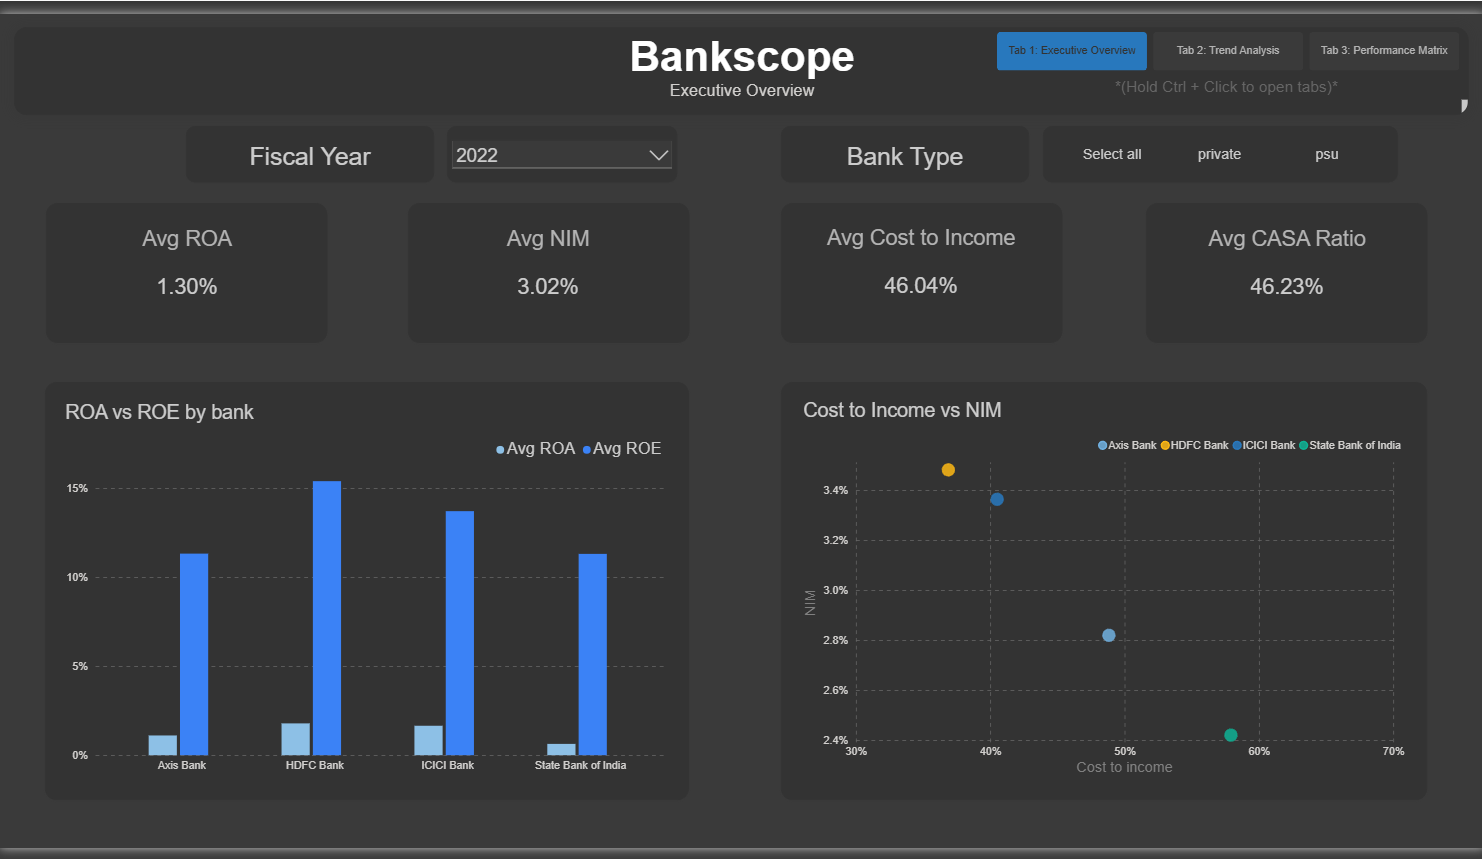

Layout of this report page (visuals, bound fields, positions):
{"tool":"powerbi","page":{"name":"Tab 1: Executive Overview","canvas":[1920,1080],"ordinal":0},"visuals":[{"type":"textbox","title":"Bankscope","box":[18.1,16.8,1882.4,114],"z":0},{"type":"textbox","box":[59,244.2,363.6,181.1],"z":1000},{"type":"textbox","box":[527.3,244.2,363.6,181.1],"z":2000},{"type":"textbox","box":[1010.3,244.2,363.6,181.1],"z":3000},{"type":"textbox","box":[1482.6,244.2,363.6,181.1],"z":4000},{"type":"textbox","box":[57.7,476.3,833.2,540.7],"z":5000},{"type":"textbox","box":[1010.3,476.3,835.9,540.7],"z":6000},{"type":"cardVisual","title":"Avg ROA","fields":{"Data":["public vw_powerbi_ratios.AVG ROA"]},"box":[73.3,254.9,336.8,159.7],"z":7000},{"type":"textbox","box":[241.1,144.4,320.8,73],"z":8000},{"type":"slicer","fields":{"Values":["public vw_powerbi_ratios.fiscal_year"]},"box":[578.9,144.4,298,73],"z":9000},{"type":"cardVisual","title":"Avg NIM","fields":{"Data":["public vw_powerbi_ratios.Avg NIM"]},"box":[541.2,255.4,336.8,159.7],"z":10000},{"type":"cardVisual","title":"Avg Cost to Income","fields":{"Data":["public vw_powerbi_ratios.AVG Cost to Income"]},"box":[1023.1,253.9,336.8,159.7],"z":11000},{"type":"cardVisual","title":"Avg CASA Ratio","fields":{"Data":["public vw_powerbi_ratios.AVG CASA Ratio"]},"box":[1496.9,254.9,336.8,159.7],"z":12000},{"type":"clusteredColumnChart","title":"ROA vs ROE by bank","fields":{"Category":["public vw_powerbi_ratios.bank_name"],"Y":["public vw_powerbi_ratios.Avg ROA","public vw_powerbi_ratios.AVG ROE"]},"box":[68.4,486.5,810.3,513.8],"z":13000},{"type":"scatterChart","title":"Cost to Income vs NIM","fields":{"Category":["public vw_powerbi_ratios.bank_name"],"Series":["public vw_powerbi_ratios.bank_name"],"X":["public vw_powerbi_ratios.AVG Cost to Income"],"Y":["public vw_powerbi_ratios.Avg NIM"]},"box":[1023.1,486.5,810.3,513.8],"z":14000},{"type":"textbox","box":[1010.9,144.4,320.8,73],"z":15000},{"type":"advancedSlicerVisual","fields":{"Values":["public vw_powerbi_ratios.bank_type"]},"box":[1349.9,144.4,459.1,73],"z":16000},{"type":"pageNavigator","box":[1289.9,23.3,600,50],"z":17000},{"type":"textbox","title":"*(Hold Ctrl + Click to open tabs)*","box":[1442.6,82.8,295,28.5],"z":18000}]}

Visuals, with their boxes in screenshot pixels (x1, y1, x2, y2), scaled from the page's 1920x1080 canvas onto the 1482x859 screenshot:
"Bankscope" textbox: l=14, t=13, r=1467, b=104
textbox: l=46, t=194, r=326, b=338
textbox: l=407, t=194, r=688, b=338
textbox: l=780, t=194, r=1060, b=338
textbox: l=1144, t=194, r=1425, b=338
textbox: l=45, t=379, r=688, b=809
textbox: l=780, t=379, r=1425, b=809
"Avg ROA" cardVisual: l=57, t=203, r=317, b=330
textbox: l=186, t=115, r=434, b=173
slicer - public vw_powerbi_ratios.fiscal_year: l=447, t=115, r=677, b=173
"Avg NIM" cardVisual: l=418, t=203, r=678, b=330
"Avg Cost to Income" cardVisual: l=790, t=202, r=1050, b=329
"Avg CASA Ratio" cardVisual: l=1155, t=203, r=1415, b=330
"ROA vs ROE by bank" clusteredColumnChart: l=53, t=387, r=678, b=796
"Cost to Income vs NIM" scatterChart: l=790, t=387, r=1415, b=796
textbox: l=780, t=115, r=1028, b=173
advancedSlicerVisual - public vw_powerbi_ratios.bank_type: l=1042, t=115, r=1396, b=173
pageNavigator: l=996, t=19, r=1459, b=58
"*(Hold Ctrl + Click to open tabs)*" textbox: l=1114, t=66, r=1341, b=89
